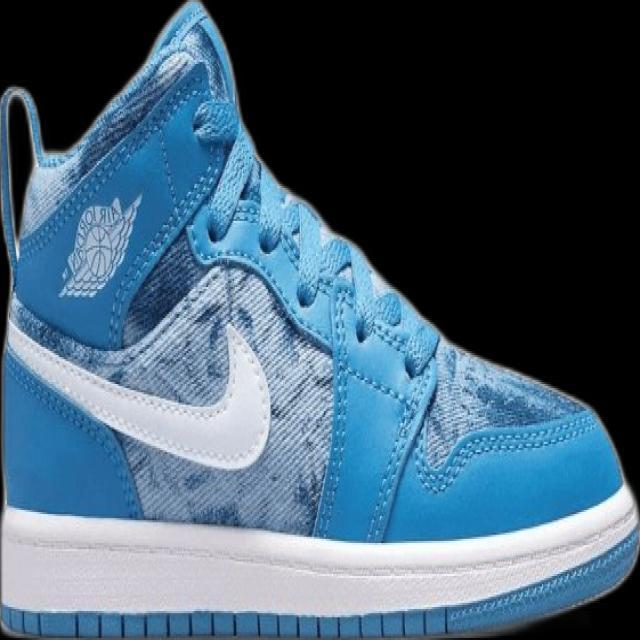J1_InsoleChar: (0, 0, 639, 639)
J1_ShoeLogo: (56, 190, 143, 300)
J1_StitchPattern: (6, 262, 595, 529), (0, 500, 639, 639), (5, 262, 331, 473), (412, 406, 600, 496), (1, 607, 451, 639), (363, 389, 423, 543)
